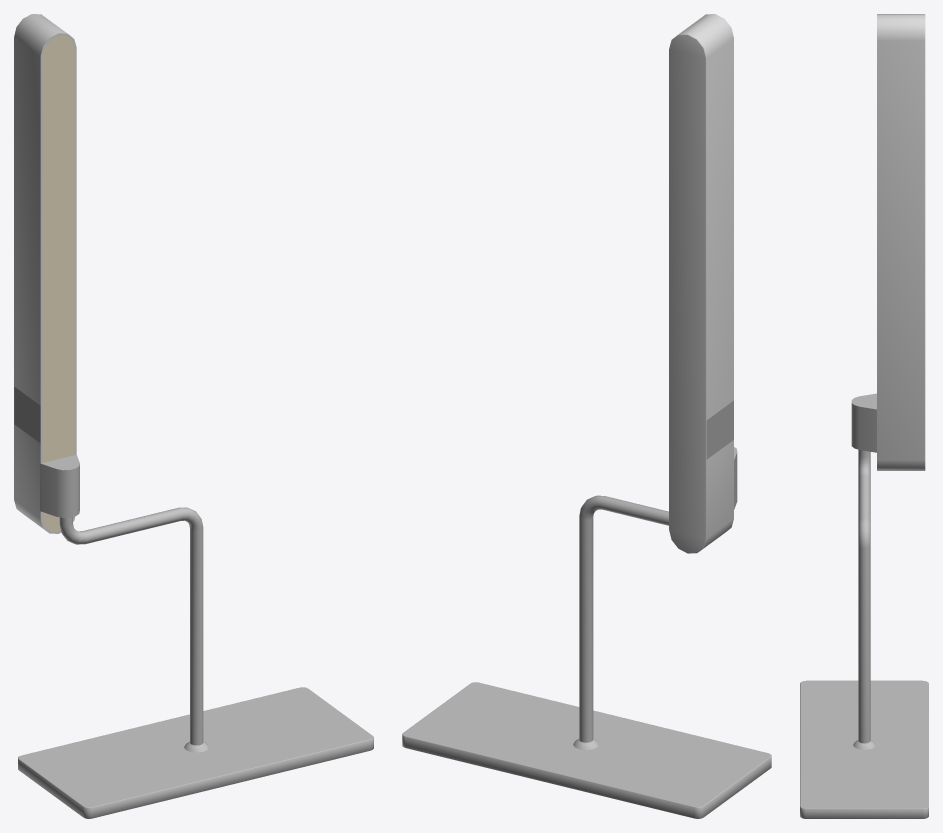
The picture shows the model from 3 angles, left to right: view 1: azimuth 30°, elevation 25°; view 2: azimuth 150°, elevation 25°; view 3: azimuth 270°, elevation 25°; orthographic projection. The views are drawn at different scales.
Parts seen in each view (by area): view 1: Group_343; view 2: Group_343; view 3: Group_343.
Part boxes in pixels (box(x1,y1,x2,y2)): Group_343: box(14, 14, 373, 818); Group_343: box(402, 14, 771, 818); Group_343: box(800, 14, 928, 818).
Size of the model in its own units: 26.54 by 64.99 by 11.14.
